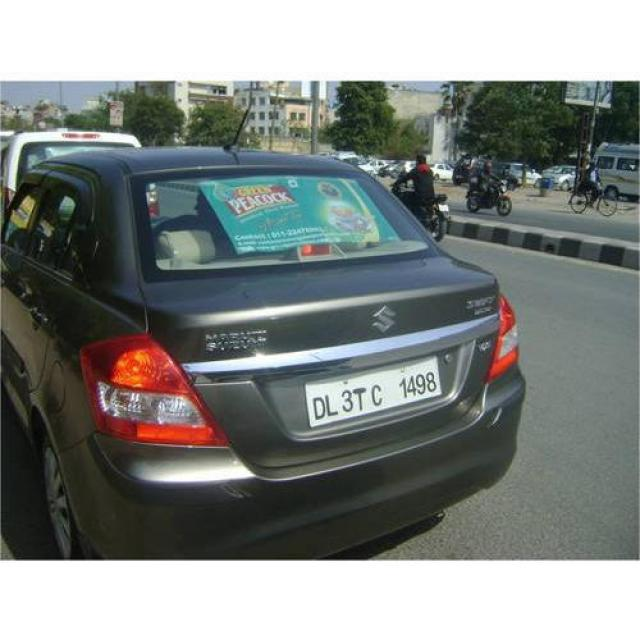Number-Plate: (304, 356, 443, 428)
